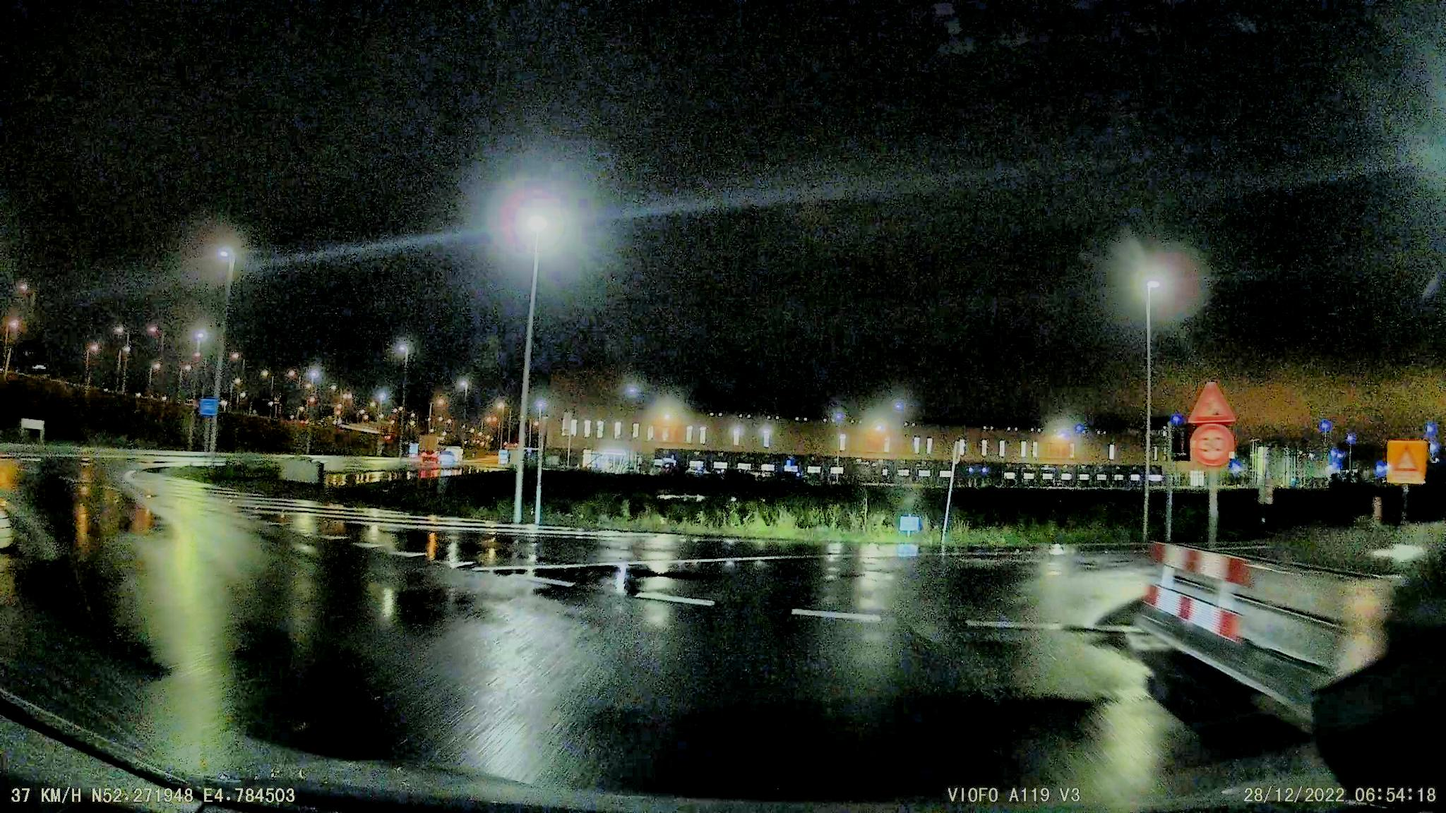Roads: (0, 458, 1342, 813)
